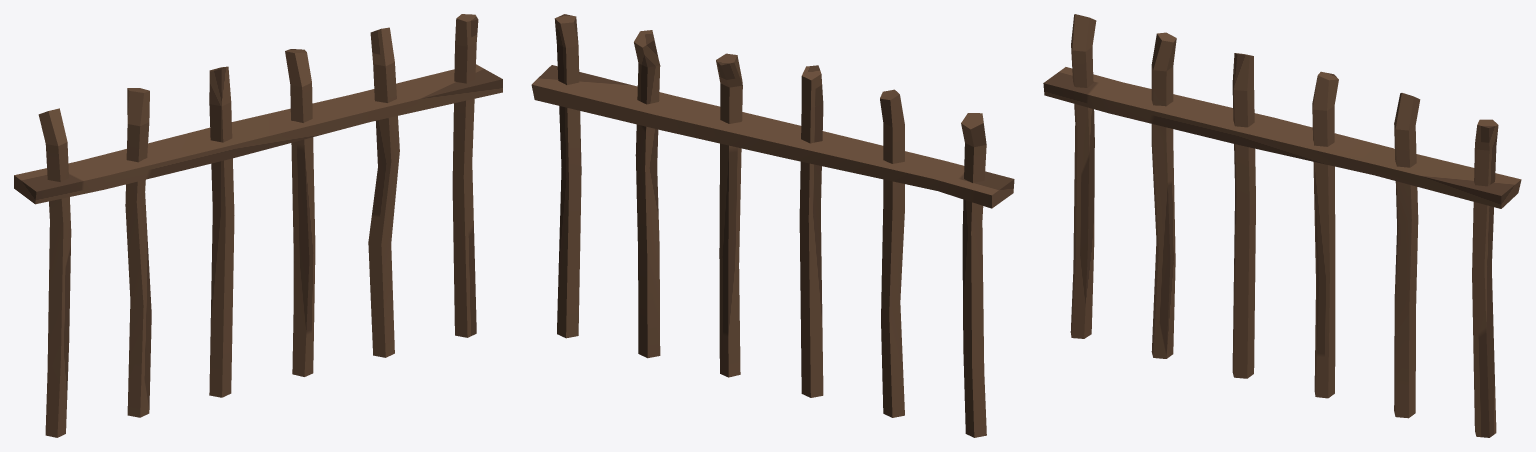
Rendered from SM_Bld_Railing_01.glb.
3 views of the same model, side by side, from view 1: azimuth 30°, elevation 25°; view 2: azimuth 150°, elevation 25°; view 3: azimuth 330°, elevation 25° (orthographic).
Visible parts, largest first — view 1: SM_Bld_Railing_01; view 2: SM_Bld_Railing_01; view 3: SM_Bld_Railing_01.
Boxes of the visible parts, left/top/right/bottom form: SM_Bld_Railing_01: left=14, top=14, right=502, bottom=437; SM_Bld_Railing_01: left=531, top=14, right=1014, bottom=437; SM_Bld_Railing_01: left=1043, top=14, right=1521, bottom=437.
Size of the model in its own units: 1.91 by 1.28 by 0.1694.
1 material, 1 textured.
